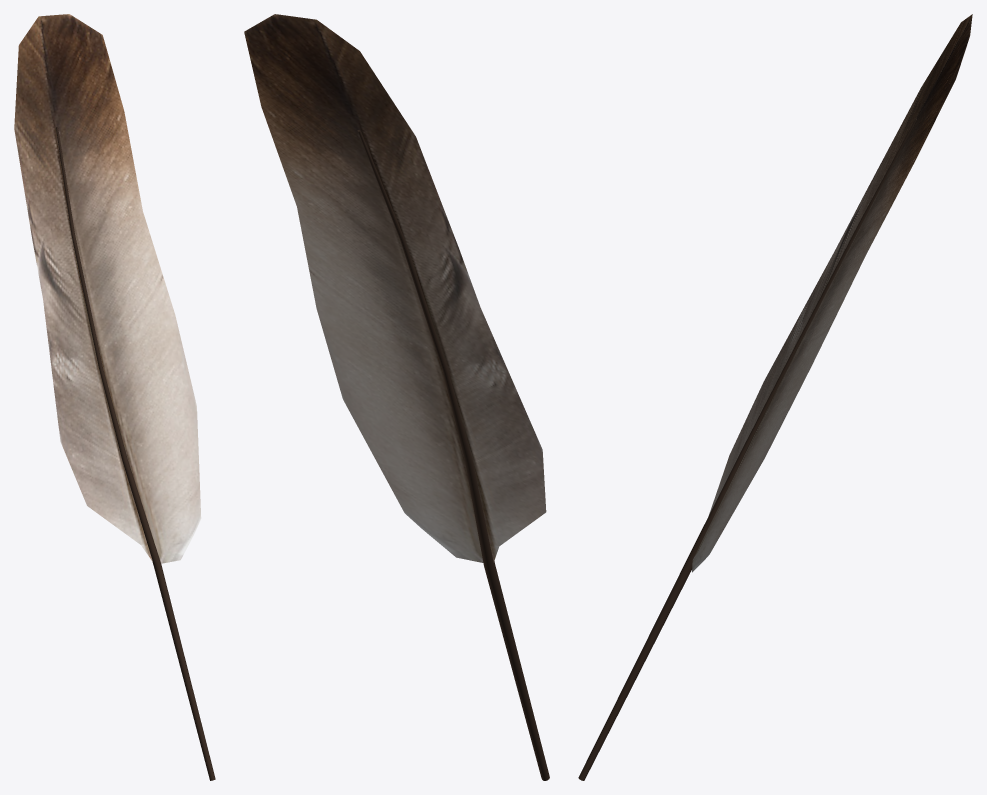
Rendered from Quill.fbx.
3 renders of one model, left to right at view 1: azimuth 30°, elevation 25°; view 2: azimuth 150°, elevation 25°; view 3: azimuth 270°, elevation 25°, orthographic. The views are drawn at different scales.
Visible parts, largest first — view 1: Quill; view 2: Quill; view 3: Quill.
Boxes of the visible parts, x1,y1,x2,y2 form: Quill: (14,14,215,780); Quill: (244,14,549,780); Quill: (578,14,972,780).
Bounding box in the file's own units: 3.38 × 15.22 × 7.14.
